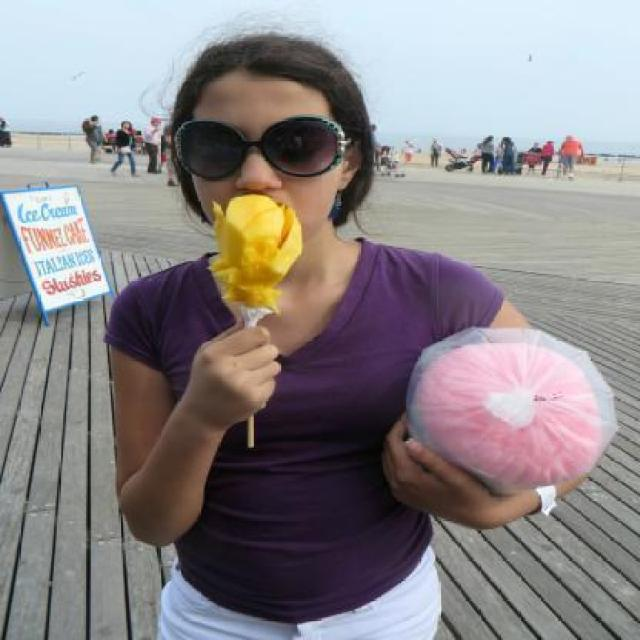glasses: (165, 104, 367, 168)
hand_noglove: (380, 411, 502, 529), (188, 324, 282, 424)
head_nohelmet: (174, 34, 351, 104)
person: (103, 29, 508, 640)
